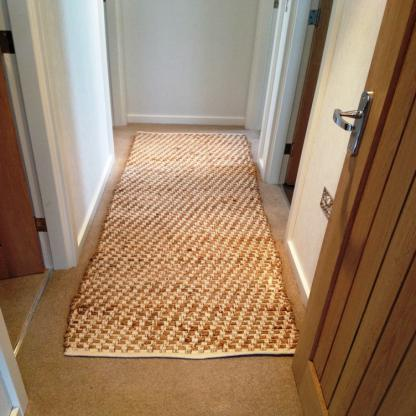door: (290, 0, 415, 415), (284, 0, 336, 188), (0, 0, 31, 287)
hinged: (0, 30, 16, 56), (308, 9, 320, 26), (34, 218, 48, 232), (284, 137, 294, 155)
lever: (331, 104, 356, 132)
